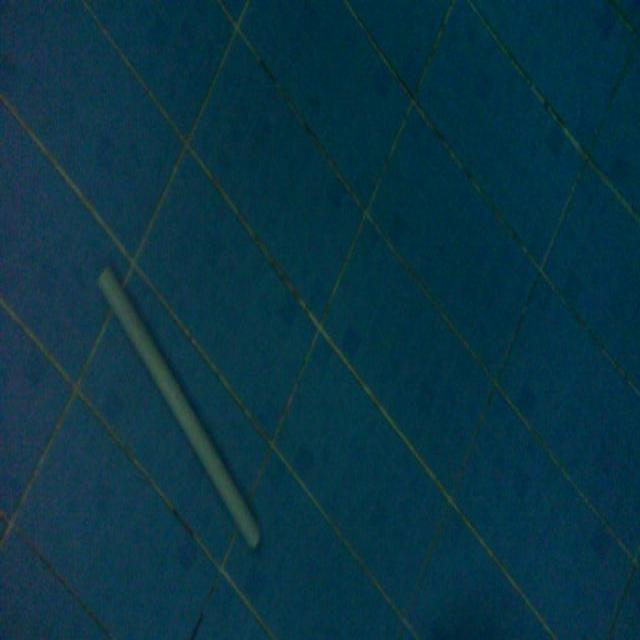Cube: (95, 260, 262, 551)
